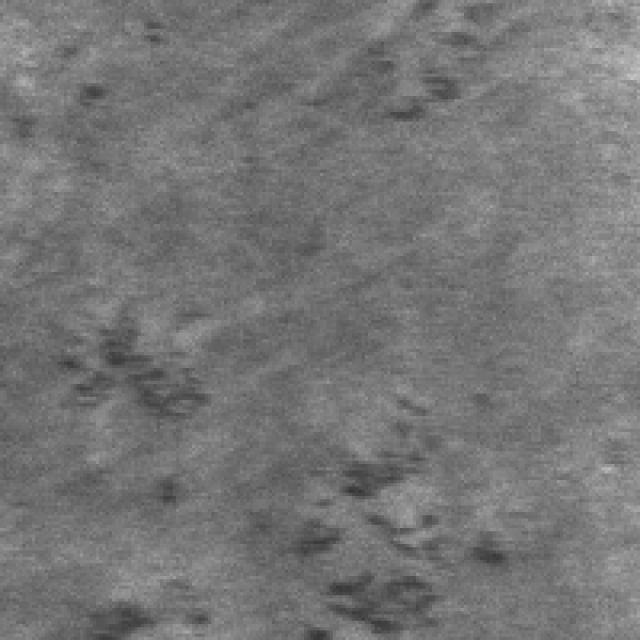rolled-in_scale: (275, 387, 506, 637), (58, 298, 211, 512), (317, 0, 499, 125), (64, 570, 214, 634)
